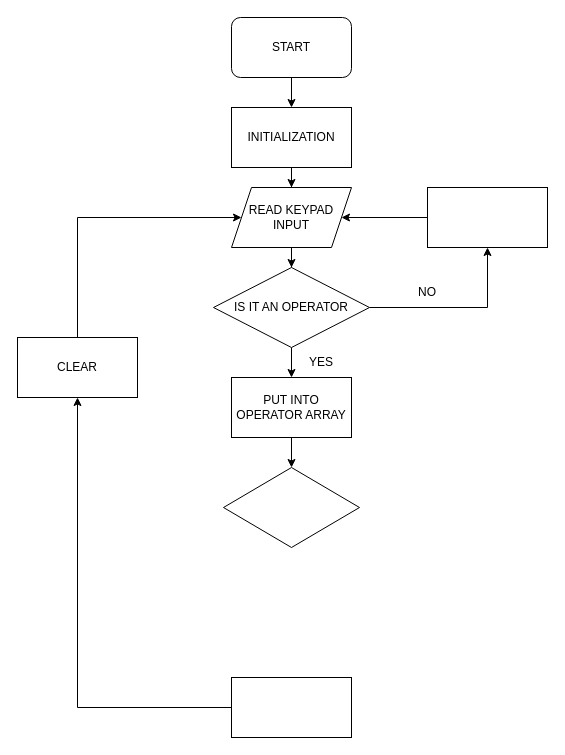
The diagram is 565 pixels wide and 755 high, and some of its shapes have lost their labels. The shapes that lost their labels are listed below. From the top down, each one's box as (x1, y1, x2, y2) in pixels, then its label:
(426, 186, 548, 248): CONCATENATE INTO STRING AND PUT IN ARRAY
(222, 466, 360, 548): IS = PRESSED
(230, 676, 352, 738): DISPLAY RESULTS
